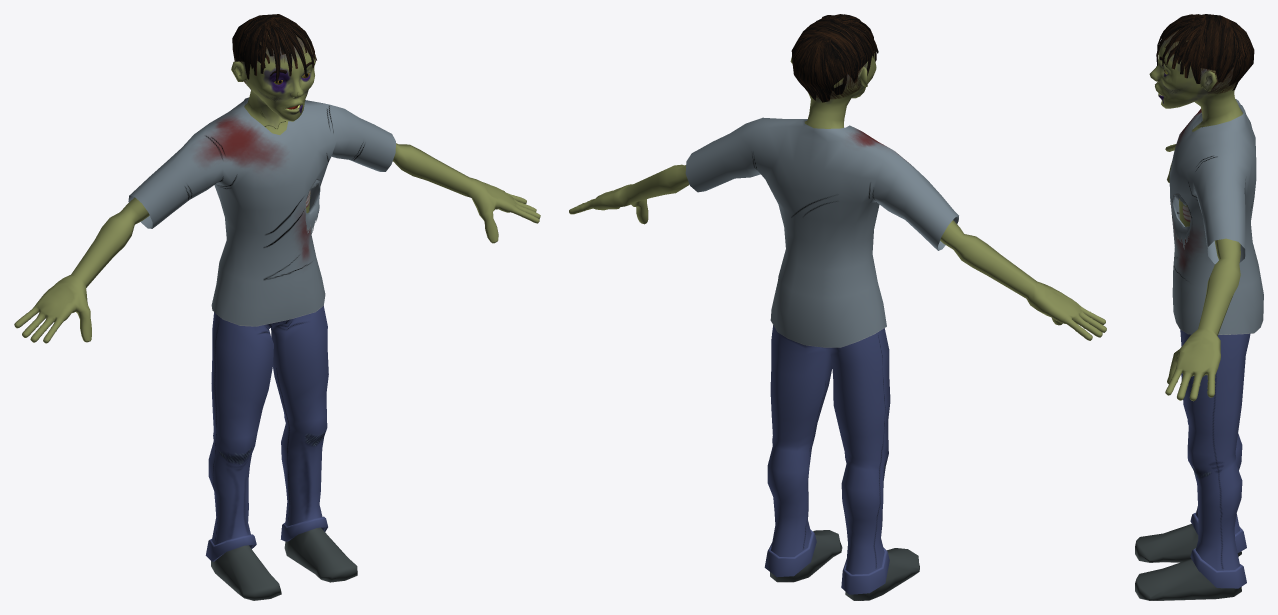
Rendered from Zombie_Generic_Male_Mesh01.fbx.
The picture shows the model from 3 angles, left to right: view 1: azimuth 30°, elevation 25°; view 2: azimuth 150°, elevation 25°; view 3: azimuth 270°, elevation 25°; orthographic projection. The views are drawn at different scales.
Parts seen in each view (by area): view 1: ZombieBody_mesh01, Shirt_Mesh01, Shoes_Mesh01, HairFront_Mesh01, Hairback_Mesh01; view 2: ZombieBody_mesh01, Shirt_Mesh01, Hairback_Mesh01, Shoes_Mesh01; view 3: ZombieBody_mesh01, Shirt_Mesh01, Shoes_Mesh01, Hairback_Mesh01, HairFront_Mesh01.
Boxes of the visible parts, x1,y1,x2,y2 form: ZombieBody_mesh01: (14,35,540,561); Shirt_Mesh01: (128,97,395,326); Shoes_Mesh01: (211,527,357,600); HairFront_Mesh01: (253,19,316,83); Hairback_Mesh01: (232,14,315,79); ZombieBody_mesh01: (569,31,1106,594); Shirt_Mesh01: (685,117,958,347); Hairback_Mesh01: (791,16,874,102); Shoes_Mesh01: (770,530,919,600); ZombieBody_mesh01: (1149,30,1250,588); Shirt_Mesh01: (1169,99,1263,334); Shoes_Mesh01: (1135,524,1241,600); Hairback_Mesh01: (1159,14,1254,90); HairFront_Mesh01: (1156,14,1202,74).
Bounding box in the file's own units: 1.85 × 1.89 × 0.3963.
